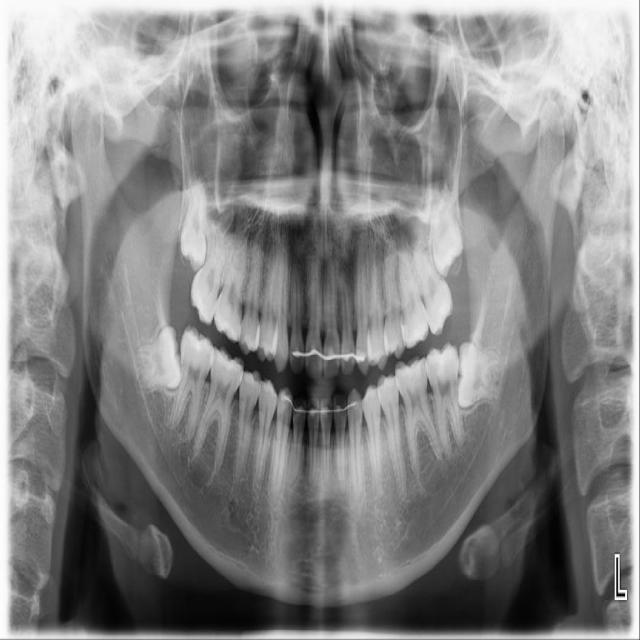Caries: (402, 310, 405, 323)
impacted tooth: (427, 171, 471, 267), (458, 339, 508, 414), (130, 327, 181, 392), (177, 177, 206, 263)
